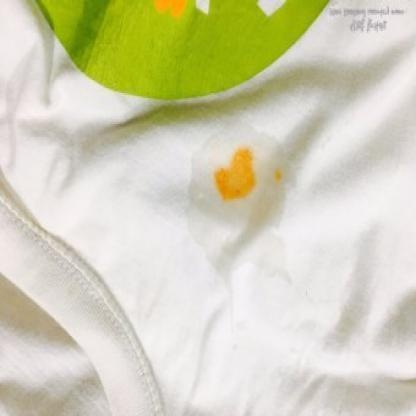kimchi: (204, 146, 258, 210), (271, 167, 287, 188)
